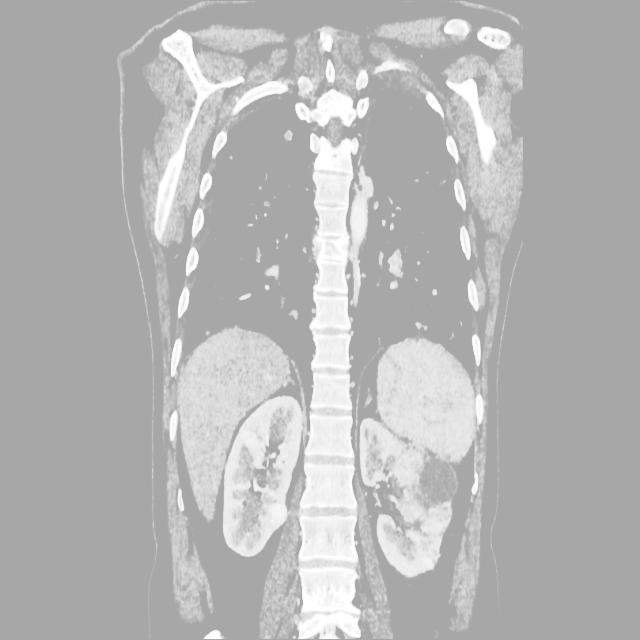TUMOR: (127, 293, 527, 557)
